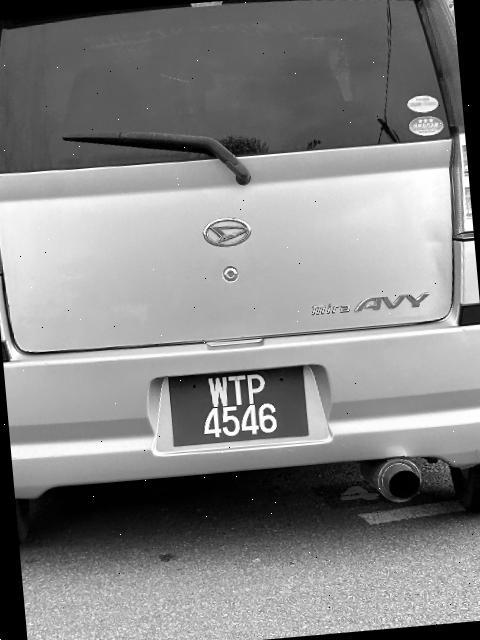License_Plate: (161, 365, 325, 450)
WTP4546: (161, 365, 325, 450)
car: (1, 1, 480, 554)
